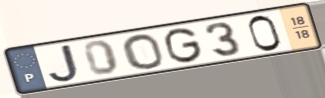0: (82, 39, 122, 78), (246, 14, 284, 53)
3: (204, 21, 243, 58)
G: (163, 26, 205, 65)
J: (47, 43, 82, 85)
O: (120, 33, 167, 70)
